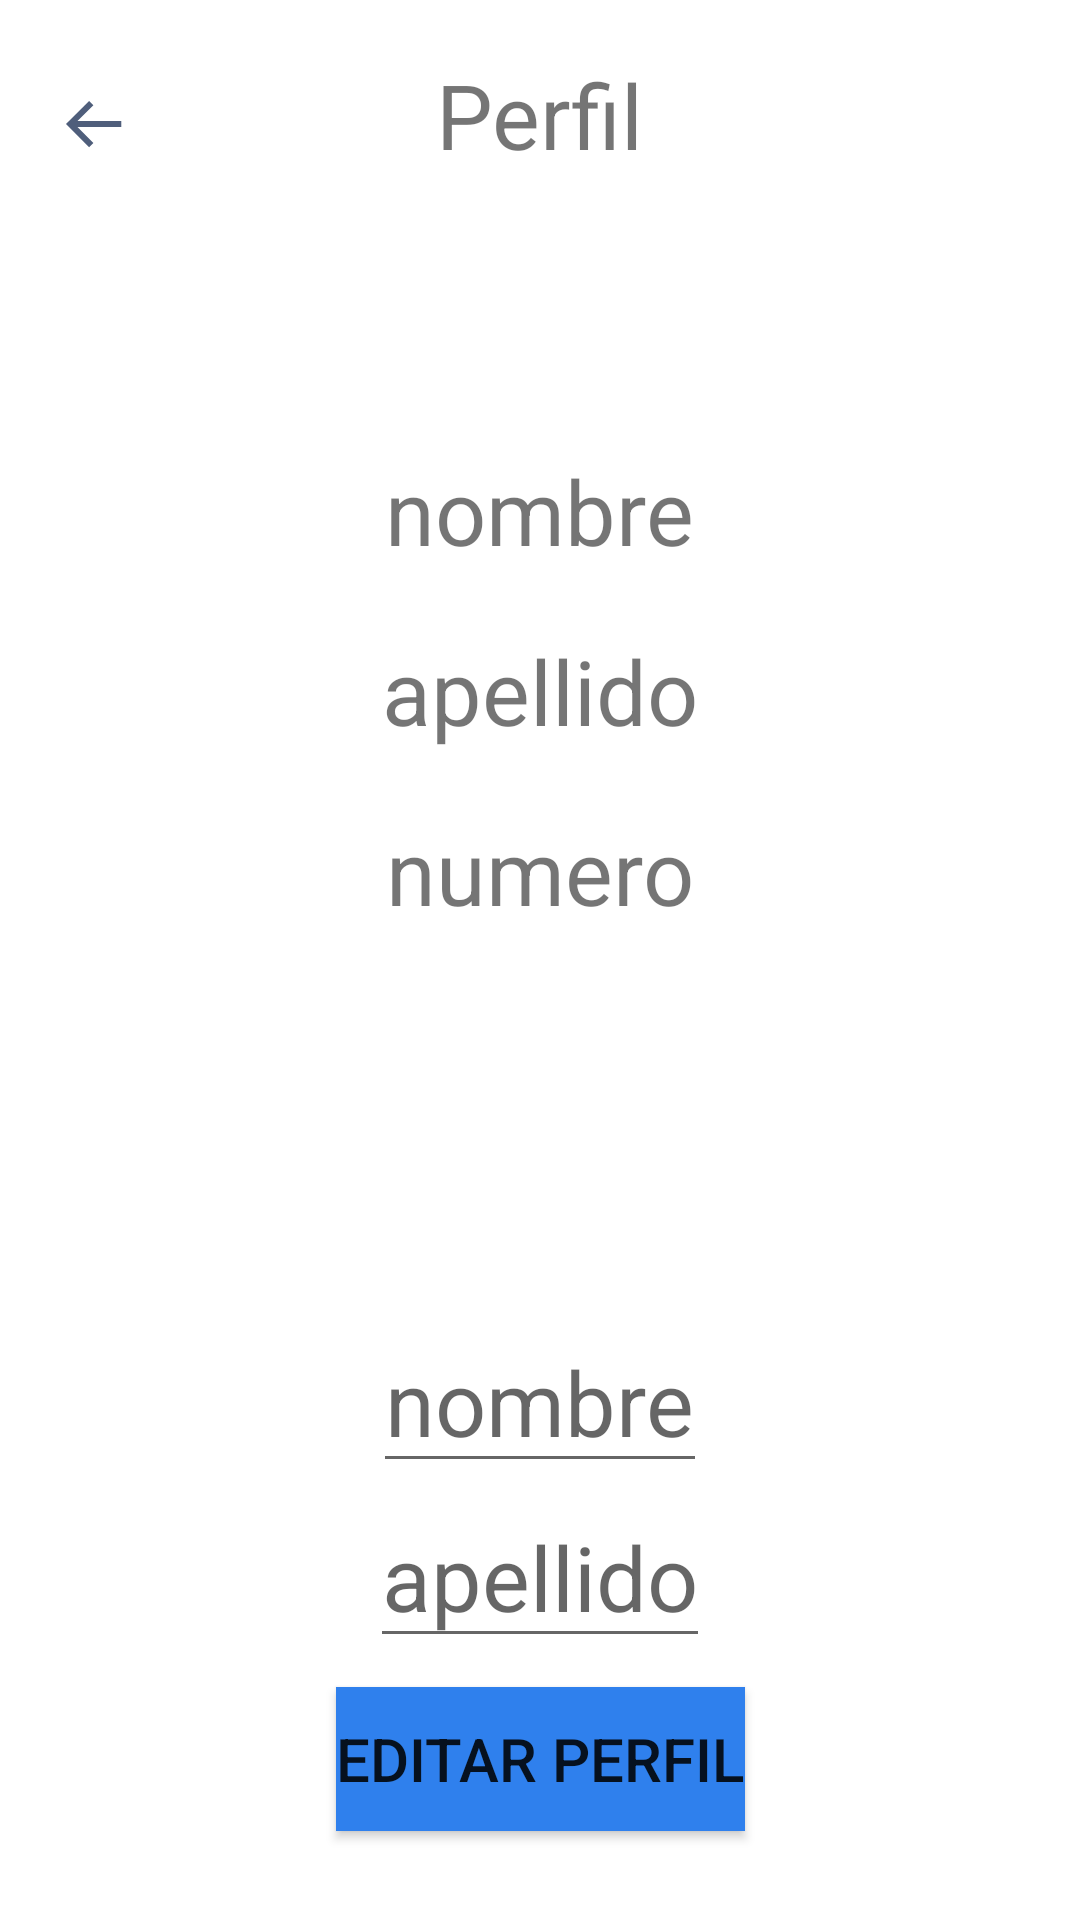

Icon bounding boxes for this 1080 x 1920 phone screenshot, format BBox(x1, y1, x2, y2):
flecha: BBox(66, 101, 122, 147)
